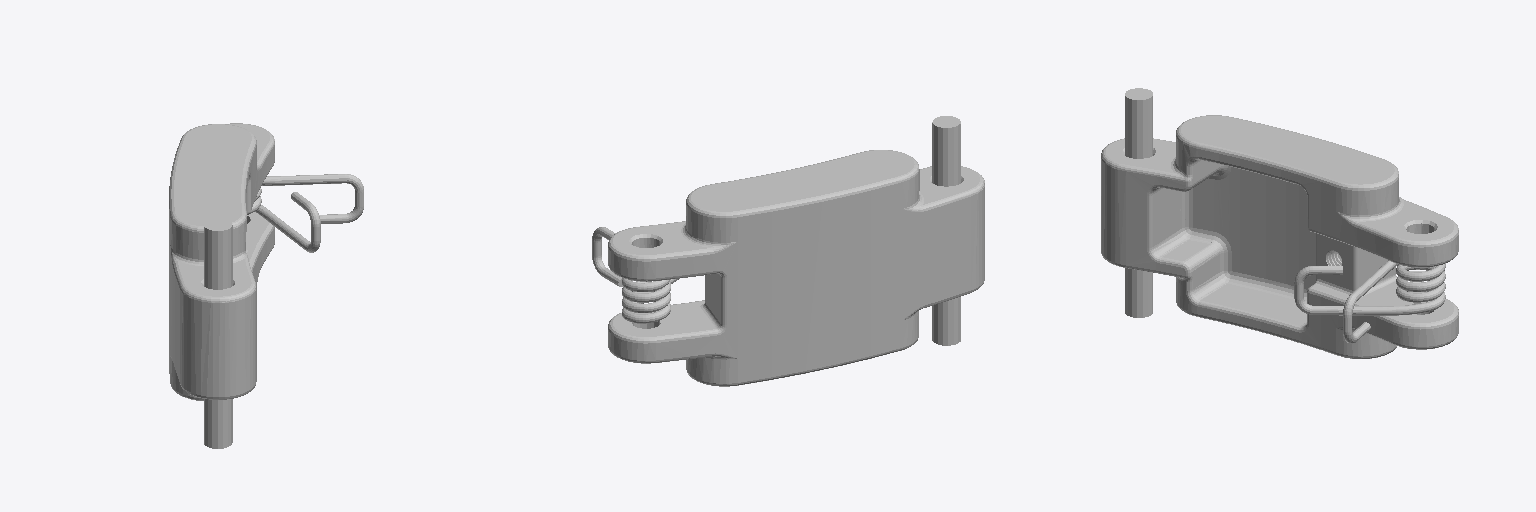
The model's file is l_b_bar_2.obj.
The picture shows the model from 3 angles: view 1: azimuth 30°, elevation 25°; view 2: azimuth 150°, elevation 25°; view 3: azimuth 270°, elevation 25°; orthographic projection.
Visible parts, largest first — view 1: obj1; view 2: obj1; view 3: obj1.
Part boxes in pixels (x1,y1,x2,y2): obj1: (169,123,363,448); obj1: (592,116,984,386); obj1: (1101,88,1458,358).
Size of the model in its own units: 0.034 by 0.025 by 0.0373.